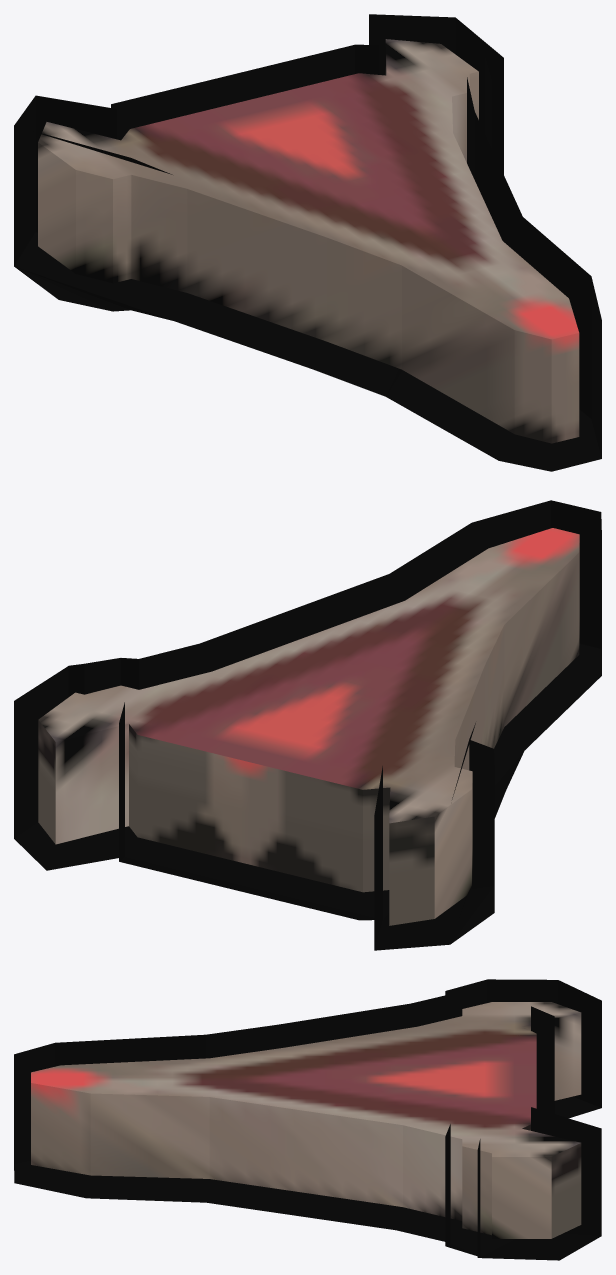
Rendered from Building_HunterDroneTrap_Things_Building_HunterTrap.glb.
3 renders of one model, top to bottom at view 1: azimuth 30°, elevation 25°; view 2: azimuth 150°, elevation 25°; view 3: azimuth 270°, elevation 25°, orthographic. The views are drawn at different scales.
Parts seen in each view (by area): view 1: Body, Outline; view 2: Body, Outline; view 3: Body, Outline.
Part boxes in pixels (x1,y1,x2,y2): Body: (38,39,579,443); Outline: (14,14,601,471); Body: (38,528,579,925); Outline: (14,500,601,950); Body: (31,1002,581,1238); Outline: (14,979,601,1260).
Bounding box in the file's own units: 0.7552 × 0.2568 × 1.1.
2 materials, 1 textured.
